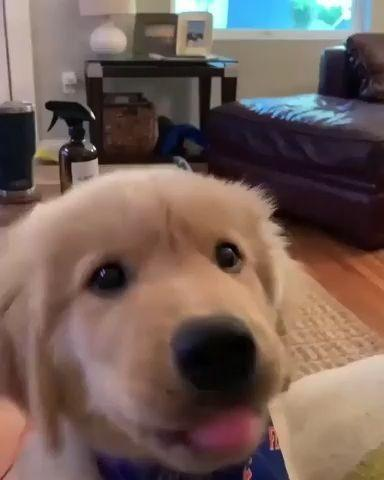puppy-dog: (0, 167, 293, 478)
